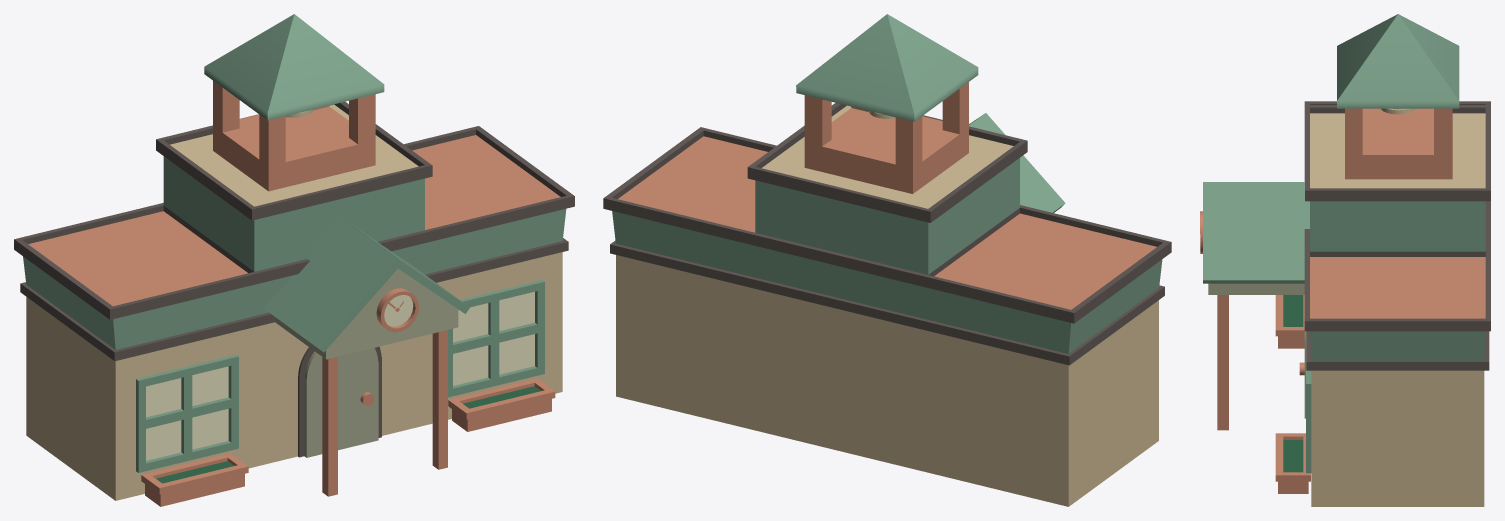
File: SCHOOL.fbx
3 renders of one model, left to right at view 1: azimuth 30°, elevation 25°; view 2: azimuth 150°, elevation 25°; view 3: azimuth 270°, elevation 25°, orthographic. The views are drawn at different scales.
Visible parts, largest first — view 1: school, pCube7, pCube5, pCylinder2, pCube2, pCube11, pCube14, pCube15, pCylinder4, pCylinder7, pCube6; view 2: school, pCube7, pCube5; view 3: school, pCube6, pCube7, pCube14, pCube11, pCube15, pCube2.
Boxes of the visible parts, left/top/right/bottom form: school: left=14, top=81, right=574, bottom=500; pCube7: left=204, top=14, right=384, bottom=120; pCube5: left=264, top=219, right=402, bottom=352; pCylinder2: left=304, top=348, right=378, bottom=457; pCube2: left=275, top=268, right=458, bottom=359; pCube11: left=322, top=330, right=447, bottom=496; pCube14: left=448, top=378, right=555, bottom=431; pCube15: left=141, top=453, right=248, bottom=506; pCylinder4: left=376, top=288, right=418, bottom=332; pCylinder7: left=298, top=346, right=381, bottom=457; pCube6: left=343, top=218, right=469, bottom=313; school: left=603, top=82, right=1171, bottom=506; pCube7: left=796, top=14, right=978, bottom=121; pCube5: left=969, top=113, right=1065, bottom=212; school: left=1304, top=101, right=1490, bottom=506; pCube6: left=1203, top=182, right=1309, bottom=283; pCube7: left=1337, top=14, right=1459, bottom=108; pCube14: left=1275, top=433, right=1310, bottom=493; pCube11: left=1217, top=295, right=1228, bottom=430; pCube15: left=1275, top=295, right=1304, bottom=348; pCube2: left=1208, top=283, right=1304, bottom=294.
Bounding box in the file's own units: 24.23 × 19.92 × 13.54.
